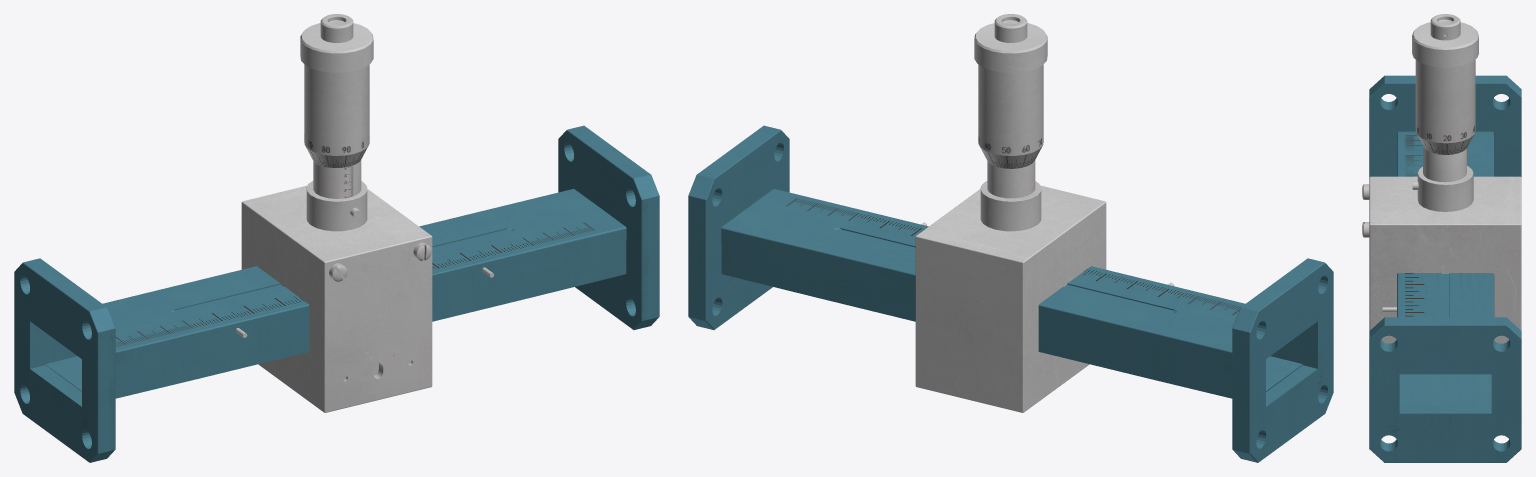
Rendered from Ling_Jian_2(3).FBX.
3 views of the same model, side by side, from view 1: azimuth 30°, elevation 25°; view 2: azimuth 150°, elevation 25°; view 3: azimuth 270°, elevation 25° (orthographic). The views are drawn at different scales.
Visible parts, largest first — view 1: a3, b1, 对象002, 对象003, c1, 对象001, e1; view 2: a3, b1, 对象002, 对象003, c1, 对象001, e1; view 3: 对象003, b1, a3, 对象002, c1, 对象001, e1.
Part boxes in pixels (x1,y1,x2,y2): a3: (45,189,626,398); b1: (241,181,432,412); 对象002: (14,258,115,462); 对象003: (558,125,659,329); c1: (300,23,373,167); 对象001: (313,160,361,198); e1: (320,14,353,42); a3: (721,189,1302,398); b1: (915,181,1106,412); 对象002: (1232,258,1333,462); 对象003: (688,125,789,329); c1: (974,23,1047,168); 对象001: (987,160,1035,198); e1: (994,14,1027,42); 对象003: (1369,317,1521,462); b1: (1362,166,1521,343); a3: (1382,131,1494,405); 对象002: (1369,75,1521,177); c1: (1412,22,1478,154); 对象001: (1423,146,1466,182); e1: (1430,14,1460,40).
Bounding box in the file's own units: 155 × 92.32 × 41.89.
